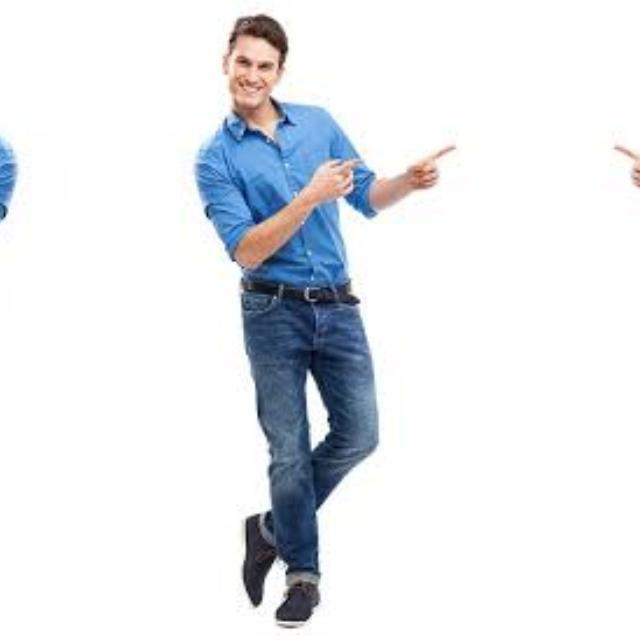person: (185, 6, 459, 628), (610, 5, 640, 628), (0, 5, 25, 628)
